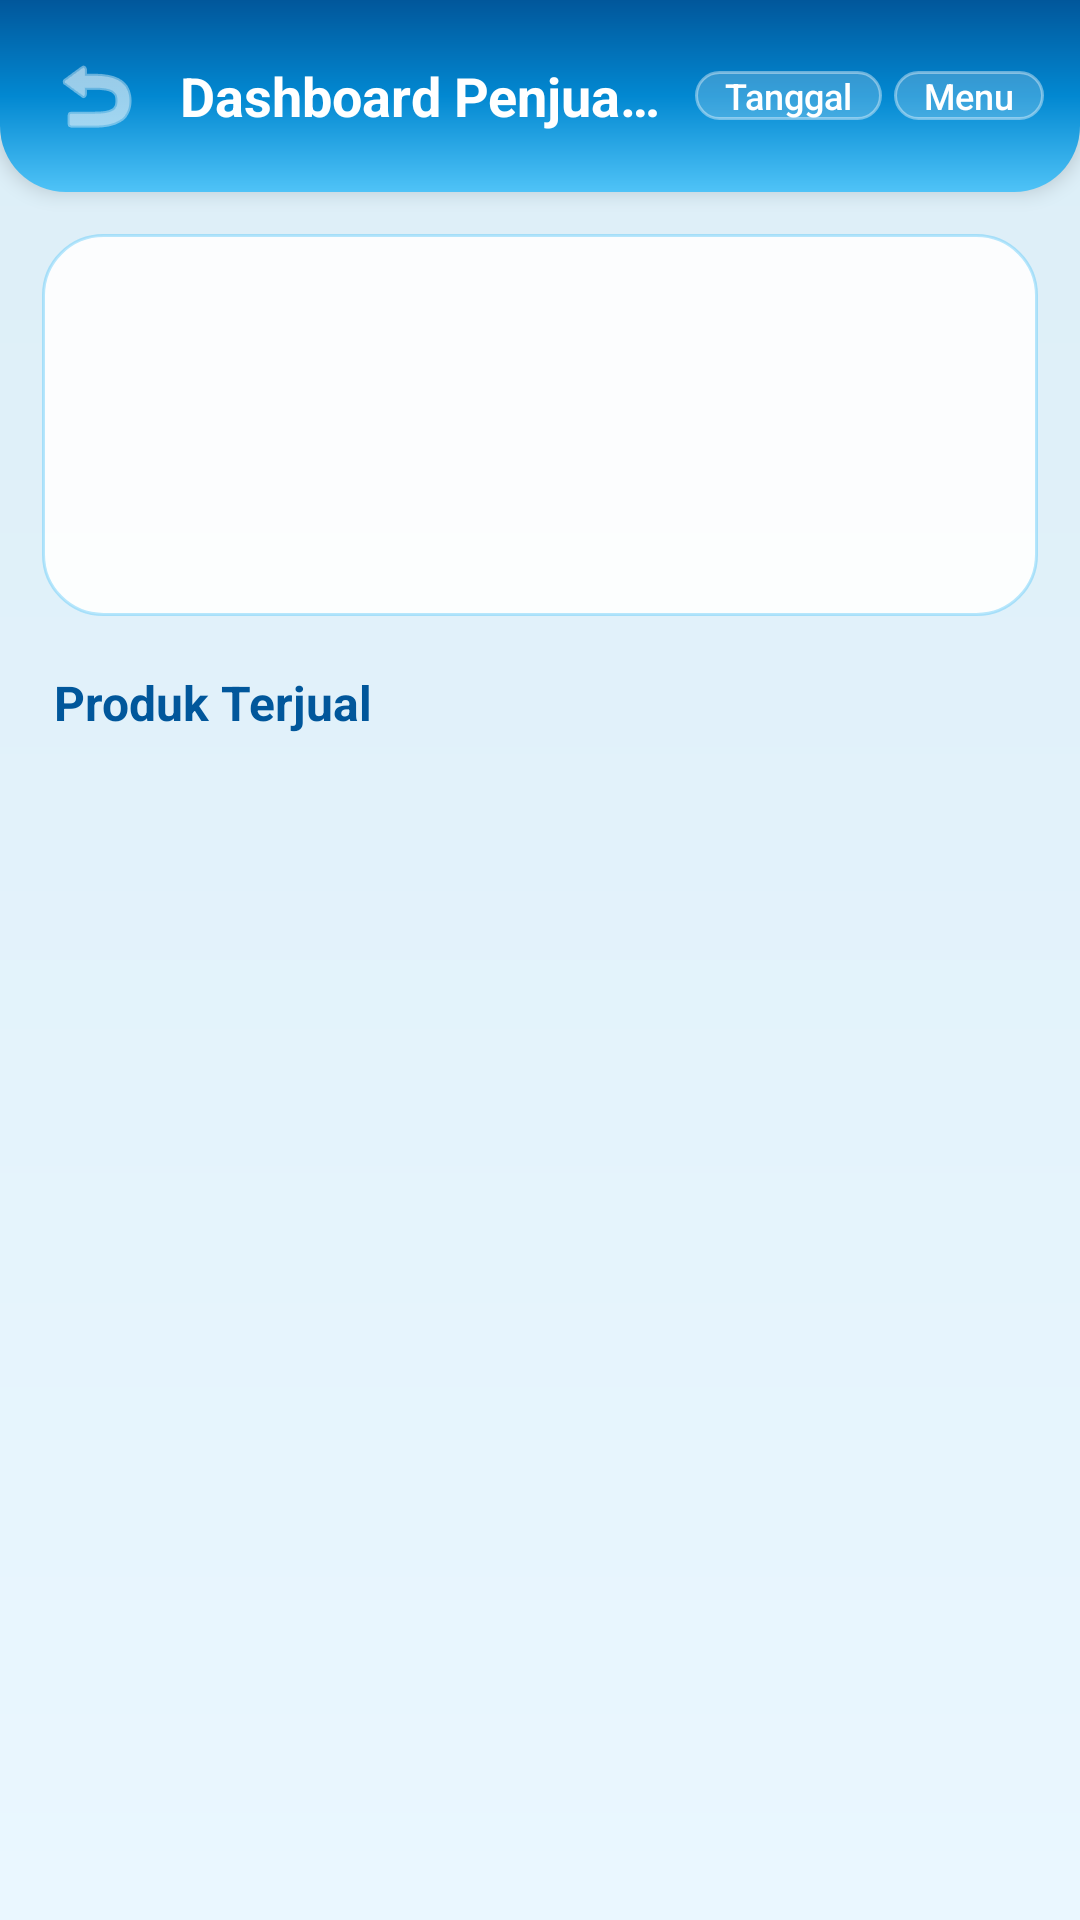

Where to tap for icons on this 1080w x 1920h app screen, as [x,y]:
Kembali: [96,96]
